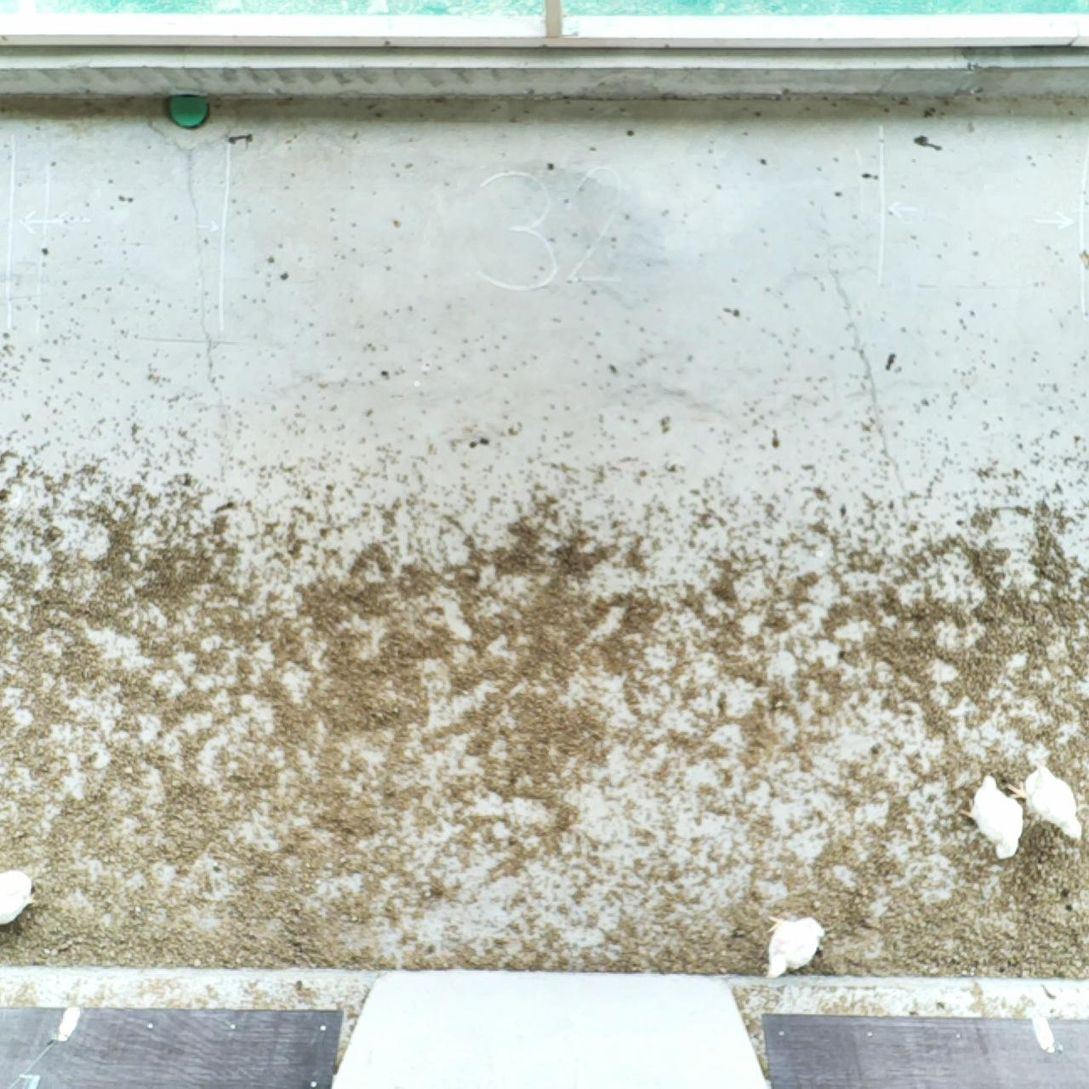chicken: (1001, 761, 1087, 843), (958, 769, 1029, 865), (763, 909, 834, 984), (0, 865, 40, 930)
